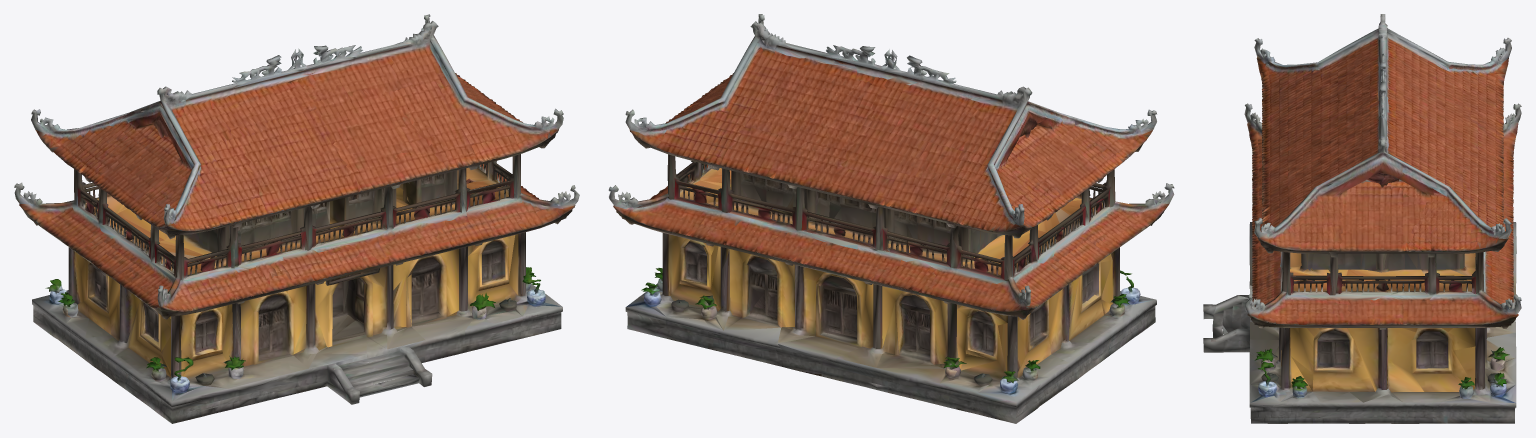
File: guest-shell.glb
3 renders of one model, left to right at view 1: azimuth 30°, elevation 25°; view 2: azimuth 150°, elevation 25°; view 3: azimuth 270°, elevation 25°, orthographic. The views are drawn at different scales.
Parts seen in each view (by area): view 1: nhakhach; view 2: nhakhach; view 3: nhakhach.
Boxes of the visible parts, x1=… form: nhakhach: x1=14, y1=14, x2=579, y2=423; nhakhach: x1=608, y1=14, x2=1174, y2=423; nhakhach: x1=1203, y1=14, x2=1521, y2=423.
Bounding box in the file's own units: 0.9795 × 0.6147 × 0.6735.
Materials: 1 (1 with a texture image).
